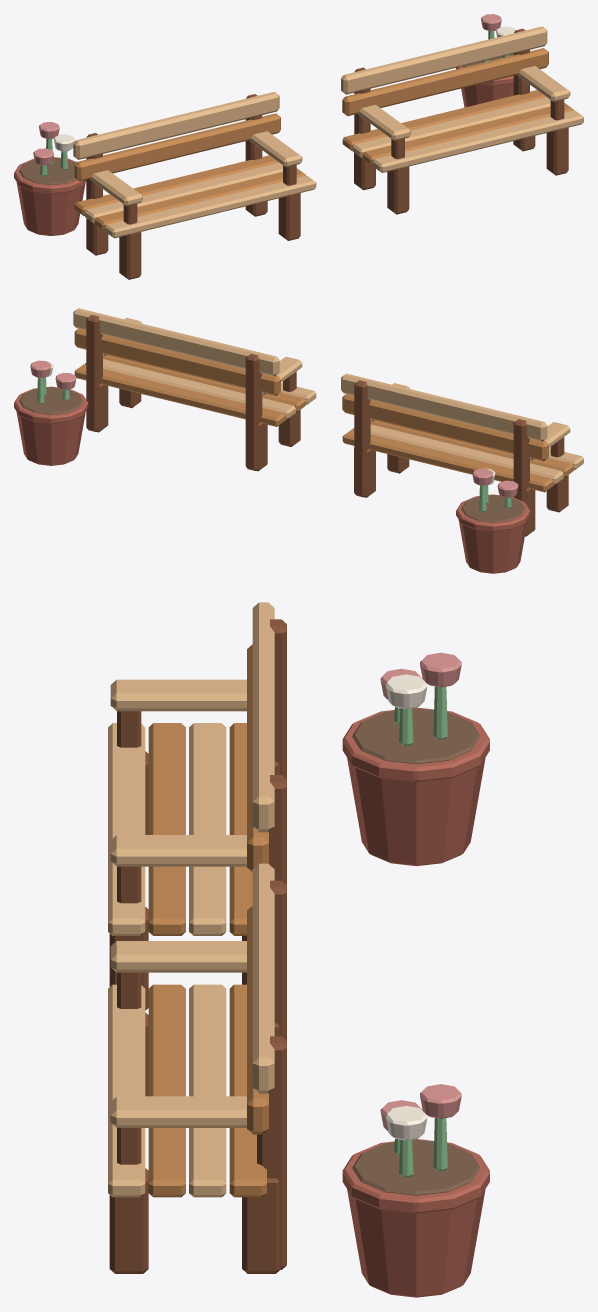
3 views of the same model, one above another, from view 1: azimuth 30°, elevation 25°; view 2: azimuth 150°, elevation 25°; view 3: azimuth 270°, elevation 25° (orthographic). The views are drawn at different scales.
Parts seen in each view (by area): view 1: Pale timber, Honey timber, Toasted timber, Terracotta enamel, Dark soil, Rosé petals, Painted cream, Leaf green; view 2: Honey timber, Pale timber, Toasted timber, Terracotta enamel, Dark soil, Rosé petals, Leaf green; view 3: Pale timber, Terracotta enamel, Honey timber, Toasted timber, Dark soil, Rosé petals, Leaf green, Painted cream.
Part boxes in pixels (x1=…): Pale timber: x1=73, y1=26, x2=583, y2=238; Honey timber: x1=74, y1=48, x2=573, y2=230; Toasted timber: x1=86, y1=28, x2=568, y2=279; Terracotta enamel: x1=14, y1=66, x2=513, y2=235; Dark soil: x1=19, y1=54, x2=513, y2=184; Rosé petals: x1=33, y1=14, x2=501, y2=165; Painted cream: x1=54, y1=26, x2=515, y2=151; Leaf green: x1=40, y1=31, x2=509, y2=176; Honey timber: x1=74, y1=328, x2=573, y2=492; Pale timber: x1=73, y1=308, x2=583, y2=484; Toasted timber: x1=86, y1=315, x2=568, y2=536; Terracotta enamel: x1=14, y1=386, x2=530, y2=573; Dark soil: x1=19, y1=387, x2=524, y2=522; Rosé petals: x1=30, y1=360, x2=518, y2=497; Leaf green: x1=37, y1=377, x2=511, y2=511; Pale timber: x1=108, y1=602, x2=274, y2=1197; Terracotta enamel: x1=342, y1=707, x2=489, y2=1297; Honey timber: x1=148, y1=644, x2=268, y2=1197; Toasted timber: x1=109, y1=619, x2=286, y2=1273; Dark soil: x1=352, y1=708, x2=480, y2=1195; Rosé petals: x1=380, y1=652, x2=461, y2=1130; Leaf green: x1=394, y1=686, x2=447, y2=1177; Painted cream: x1=385, y1=674, x2=427, y2=1140.
Bounding box in the file's own units: 4.76 × 1.04 × 1.56.
